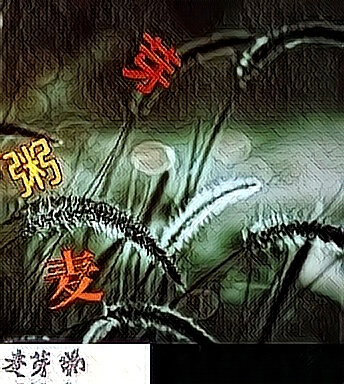C2F3: (41, 246, 104, 313)
D1BF: (118, 29, 181, 96)
D6E0: (3, 133, 66, 200)
